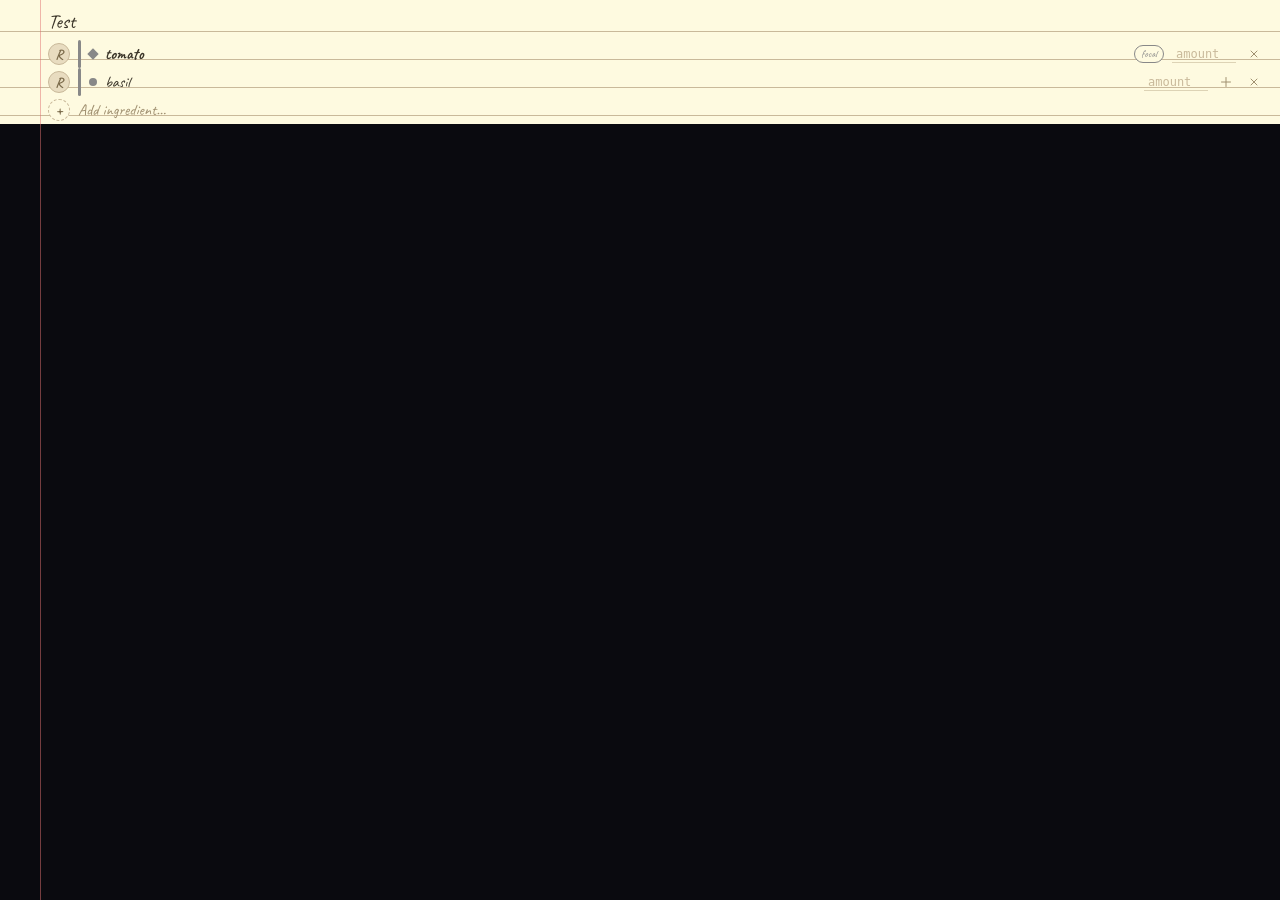
RecipeNotebook — RL-FOCAL-FLAG (§13.3 focal popover + badge) › right-click on the already-focal row shows "Clear focal"
The width and height of the screenshot is (1280, 900).
Right-click the element with test id "notebook-row-tomato" at x=124, y=54, box [48,40,1272,68]
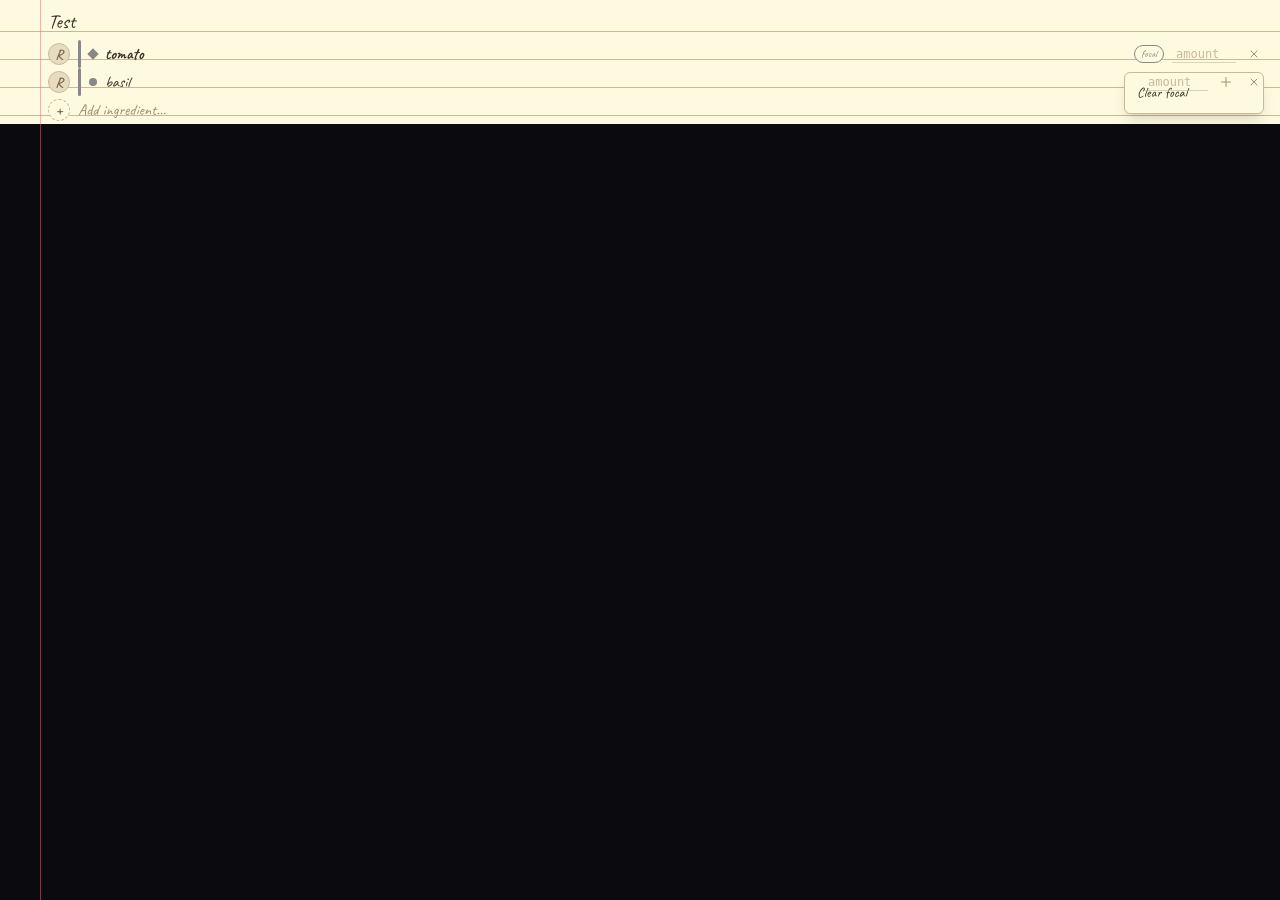
Expected: the button with test id "focal-menu-toggle-tomato" reads "Clear focal", [1125,73,1263,113]
